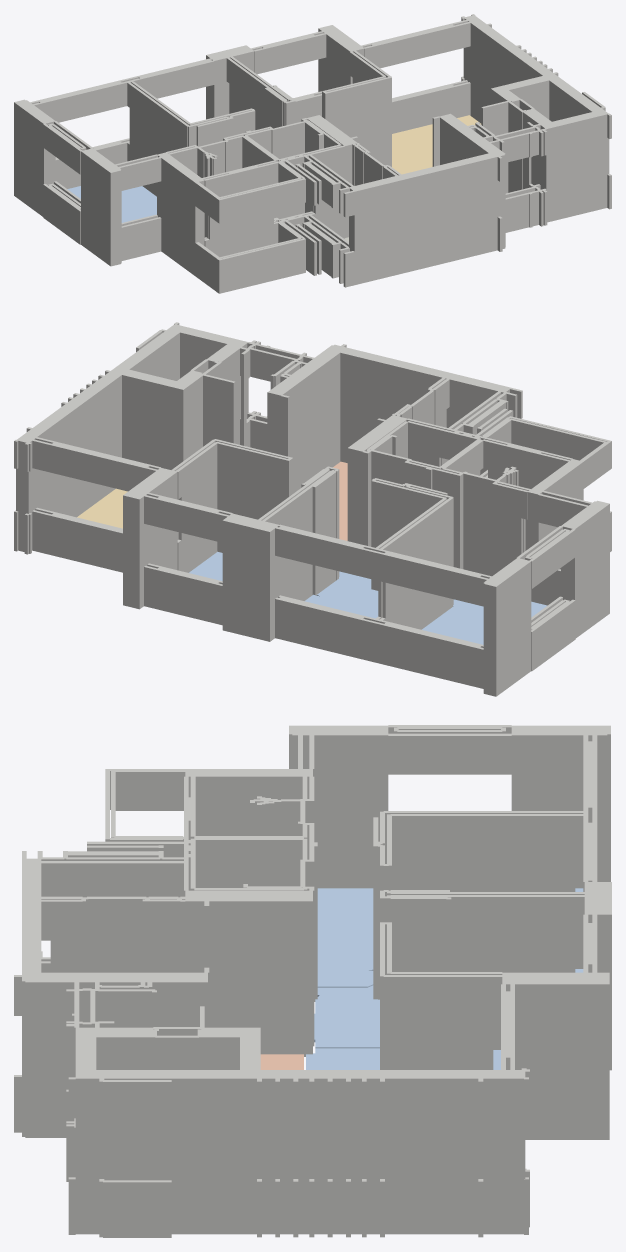
The picture shows the model from 3 angles, top to bottom: view 1: azimuth 30°, elevation 25°; view 2: azimuth 150°, elevation 25°; view 3: azimuth 270°, elevation 25°; orthographic projection. The views are drawn at different scales.
Visible parts, largest first — view 1: walls, room:living:4, room:bedroom:0; view 2: walls, room:bedroom:1, room:bedroom:0, room:living:4, room:kitchen:5, room:bedroom:9; view 3: walls, room:bedroom:0, room:bedroom:1, room:bedroom:9, room:kitchen:5.
Part boxes in pixels (x1=…): walls: x1=14, y1=14, x2=611, y2=293; room:living:4: x1=392, y1=115, x2=481, y2=174; room:bedroom:0: x1=67, y1=186, x2=156, y2=222; walls: x1=14, y1=322, x2=611, y2=696; room:bedroom:1: x1=304, y1=571, x2=378, y2=618; room:bedroom:0: x1=422, y1=599, x2=547, y2=644; room:living:4: x1=77, y1=488, x2=127, y2=528; room:kitchen:5: x1=333, y1=461, x2=347, y2=540; room:bedroom:9: x1=189, y1=551, x2=222, y2=581; walls: x1=14, y1=725, x2=611, y2=1237; room:bedroom:0: x1=317, y1=888, x2=583, y2=987; room:bedroom:1: x1=314, y1=969, x2=583, y2=1048; room:bedroom:9: x1=306, y1=1048, x2=500, y2=1069; room:kitchen:5: x1=260, y1=1054, x2=303, y2=1069.
Bounding box in the file's own units: 13.76 × 2.8 × 9.74.
